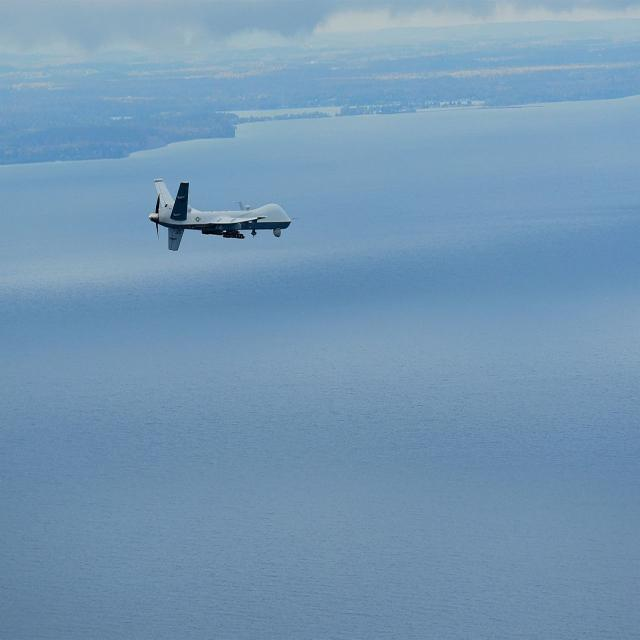MIL_Plane: (147, 178, 299, 251)
